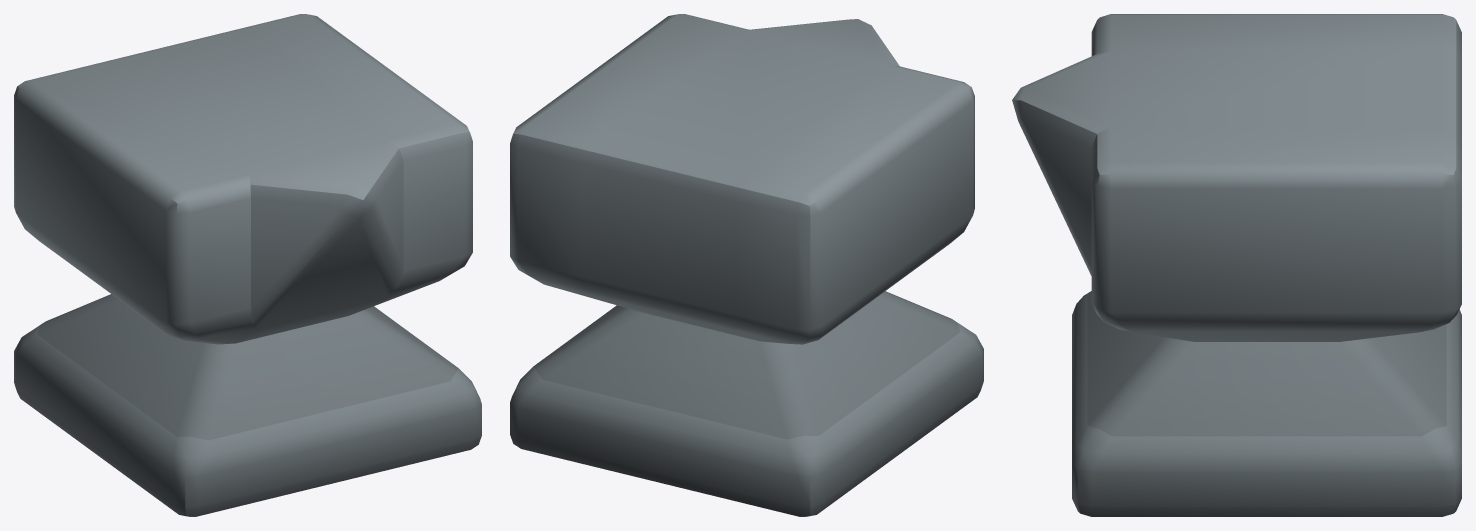
The model's file is anvil.glb.
3 views of the same model, side by side, from view 1: azimuth 30°, elevation 25°; view 2: azimuth 150°, elevation 25°; view 3: azimuth 270°, elevation 25° (orthographic). The views are drawn at different scales.
Visible parts, largest first — view 1: anvil; view 2: anvil; view 3: anvil.
Part boxes in pixels (left/top/right/bottom): anvil: left=14, top=14, right=481, bottom=516; anvil: left=510, top=14, right=983, bottom=516; anvil: left=1012, top=14, right=1461, bottom=516.
Size of the model in its own units: 2 by 2 by 2.31.
Materials: 1 (1 with a texture image).
